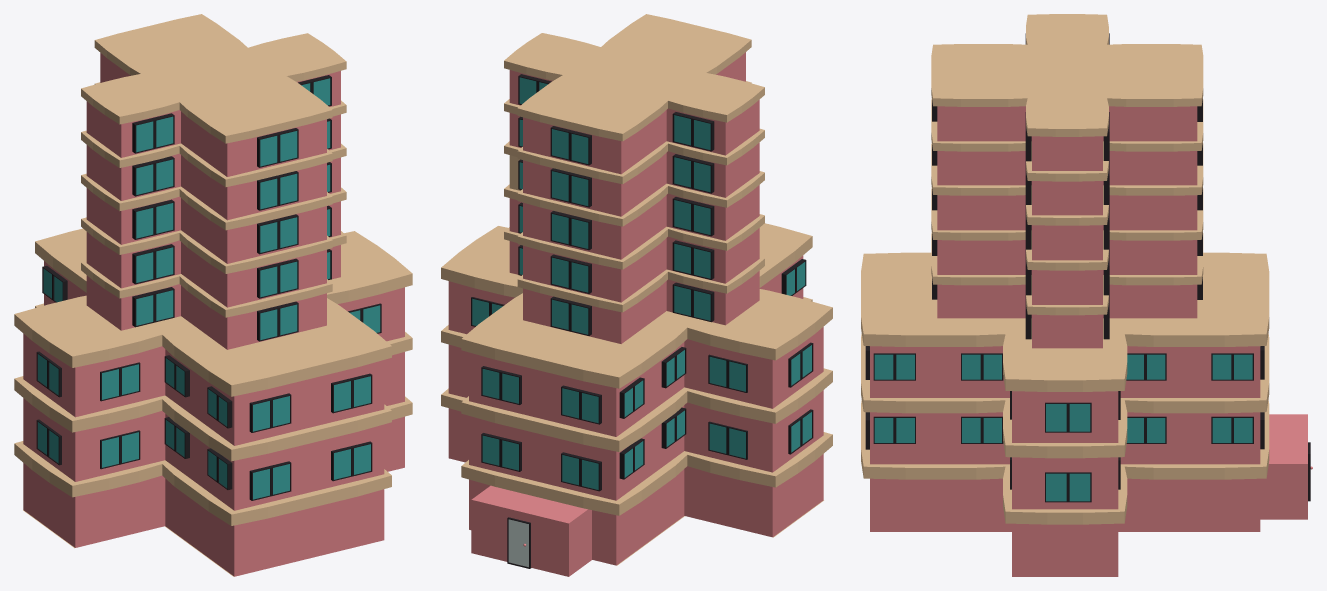
File: skyscraper3_small.fbx
3 renders of one model, left to right at view 1: azimuth 30°, elevation 25°; view 2: azimuth 150°, elevation 25°; view 3: azimuth 270°, elevation 25°, orthographic. The views are drawn at different scales.
Visible parts, largest first — view 1: Plane.004, Plane, Plane.002, Plane.003, Cube.084, Cube.081, Cube.080, Cube.082, Cube.083, Cube.050, Cube.052, Cube.074 (+17 smaller); view 2: Plane.004, Plane, Plane.002, Plane.003, Cube, Cube.072, Cube.071, Cube.068, Cube.069, Cube.070, Cube.008, Cube.007 (+19 smaller); view 3: Plane.004, Plane.003, Plane, Plane.002, Cube, Cube.038, Cube.039, Cube.015, Cube.017, Cube.022, Cube.020, Cube.023 (+3 smaller).
Boxes of the visible parts, x1,y1,x2,y2 form: Plane.004: [23, 261, 404, 576]; Plane: [14, 228, 412, 576]; Plane.002: [81, 14, 346, 317]; Plane.003: [86, 53, 340, 349]; Cube.084: [132, 113, 174, 153]; Cube.081: [132, 244, 174, 284]; Cube.080: [132, 287, 174, 327]; Cube.082: [132, 199, 174, 239]; Cube.083: [132, 156, 174, 196]; Cube.050: [249, 461, 291, 500]; Cube.052: [249, 393, 291, 432]; Cube.074: [257, 301, 298, 341]; Plane.004: [448, 255, 823, 565]; Plane: [441, 223, 832, 565]; Plane.002: [504, 14, 764, 312]; Plane.003: [509, 52, 759, 343]; Cube: [471, 485, 591, 576]; Cube.072: [672, 112, 714, 151]; Cube.071: [672, 154, 714, 193]; Cube.068: [672, 282, 714, 322]; Cube.069: [672, 240, 714, 279]; Cube.070: [672, 197, 714, 236]; Cube.008: [550, 254, 591, 293]; Cube.007: [550, 296, 591, 335]; Plane.004: [870, 346, 1260, 576]; Plane.003: [937, 106, 1197, 348]; Plane: [861, 252, 1269, 524]; Plane.002: [931, 14, 1203, 315]; Cube: [1260, 414, 1307, 519]; Cube.038: [1045, 472, 1091, 502]; Cube.039: [1045, 402, 1091, 432]; Cube.015: [1211, 416, 1253, 443]; Cube.017: [1211, 353, 1253, 380]; Cube.022: [873, 353, 915, 380]; Cube.020: [873, 416, 915, 443]; Cube.023: [961, 353, 1003, 380].
Size of the model in its own units: 3694 by 4236 by 4089.
Materials: 4 (2 with a texture image).
